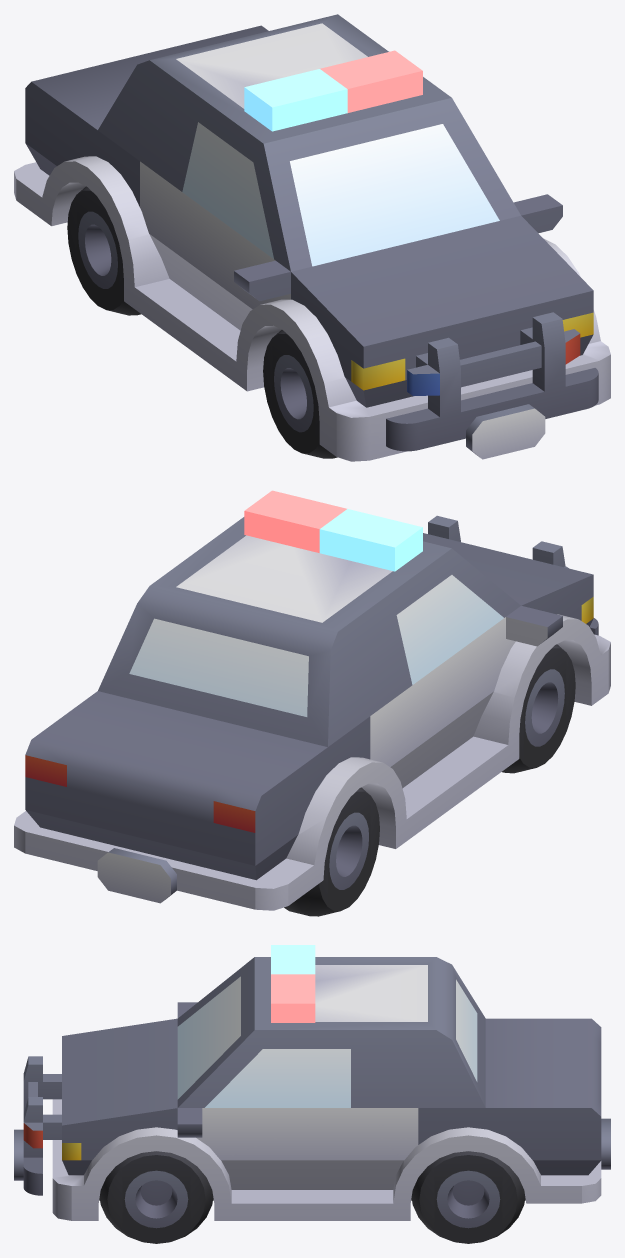
File: police.glb
The picture shows the model from 3 angles, top to bottom: view 1: azimuth 30°, elevation 25°; view 2: azimuth 150°, elevation 25°; view 3: azimuth 270°, elevation 25°; orthographic projection. The views are drawn at different scales.
Visible parts, largest first — view 1: body, grill, wheel-front-right, wheel-back-right, SirenLeft, SirenRight; view 2: body, wheel-back-right, wheel-front-right, SirenLeft, SirenRight, grill; view 3: body, wheel-back-left, wheel-front-left, grill, SirenRight, SirenLeft.
Part boxes in pixels (x1,y1,x2,y2): body: [14, 14, 610, 461]; grill: [386, 312, 598, 459]; wheel-front-right: [263, 330, 337, 458]; wheel-back-right: [67, 186, 141, 315]; SirenLeft: [244, 69, 347, 131]; SirenRight: [320, 50, 422, 112]; body: [14, 517, 610, 910]; wheel-back-right: [284, 787, 379, 916]; wheel-front-right: [502, 644, 575, 773]; SirenLeft: [319, 509, 422, 571]; SirenRight: [244, 490, 346, 552]; grill: [428, 515, 598, 635]; body: [52, 957, 610, 1220]; wheel-back-left: [411, 1151, 525, 1243]; wheel-front-left: [99, 1151, 213, 1243]; grill: [14, 1056, 61, 1195]; SirenRight: [271, 974, 315, 1022]; SirenLeft: [271, 945, 315, 974].
Size of the model in its own units: 1.5 by 1.31 by 3.1.
Materials: 3 (1 with a texture image).
